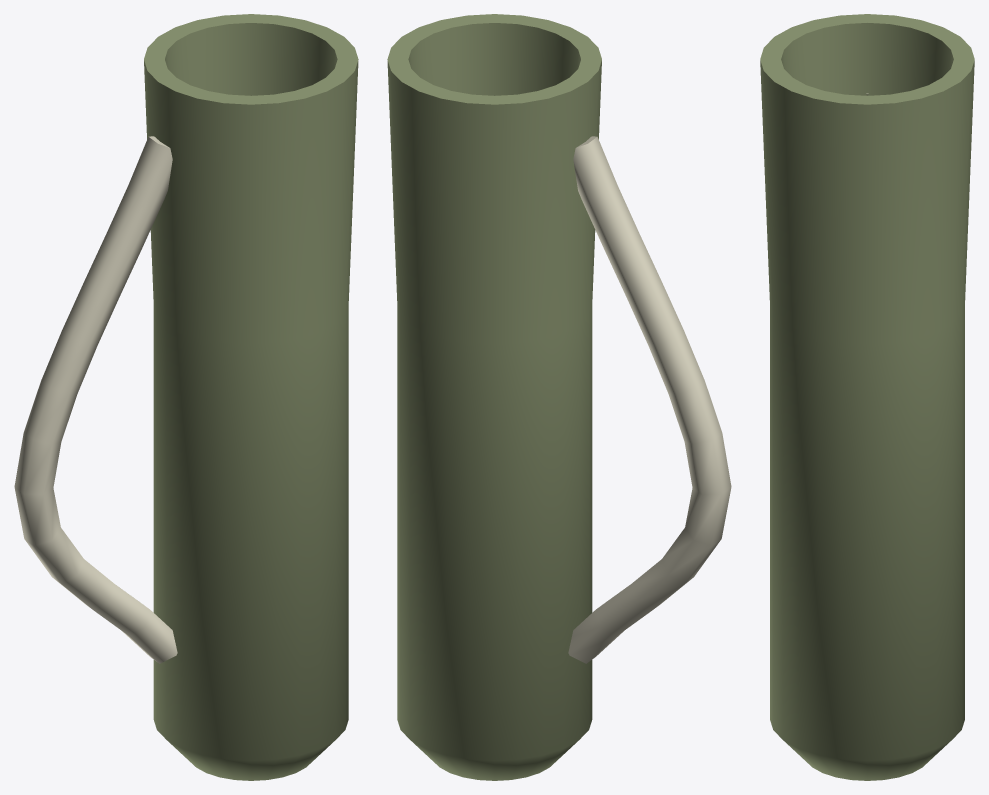
File: primitive-crafting-workshop-rawhide-quiver-5f284f66__21565.glb
3 views of the same model, side by side, from view 1: azimuth 30°, elevation 25°; view 2: azimuth 150°, elevation 25°; view 3: azimuth 270°, elevation 25° (orthographic).
Visible parts, largest first — view 1: rawhide-quiver; view 2: rawhide-quiver; view 3: rawhide-quiver.
Part boxes in pixels (bbox=[...]): rawhide-quiver: bbox=[14, 14, 358, 780]; rawhide-quiver: bbox=[387, 14, 731, 780]; rawhide-quiver: bbox=[760, 14, 974, 780].
Size of the model in its own units: 0.269 by 0.55 by 0.154.
